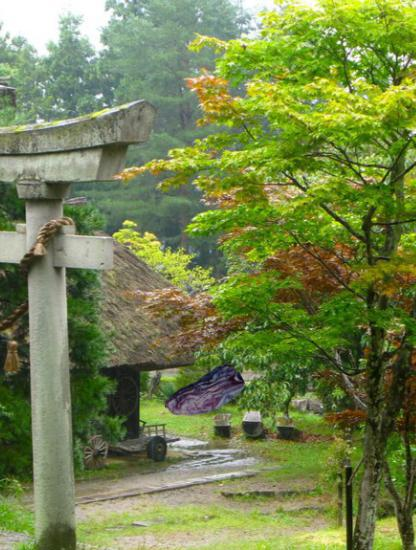Dates: (164, 354, 246, 436)
